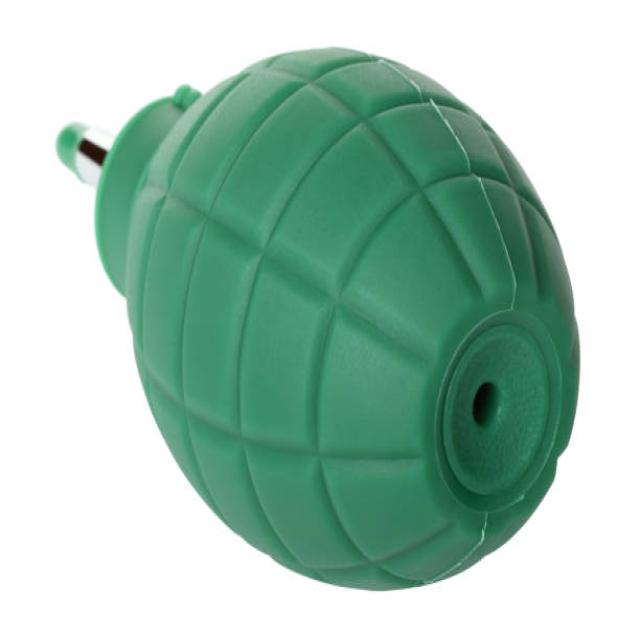grenade: (50, 43, 587, 596)
